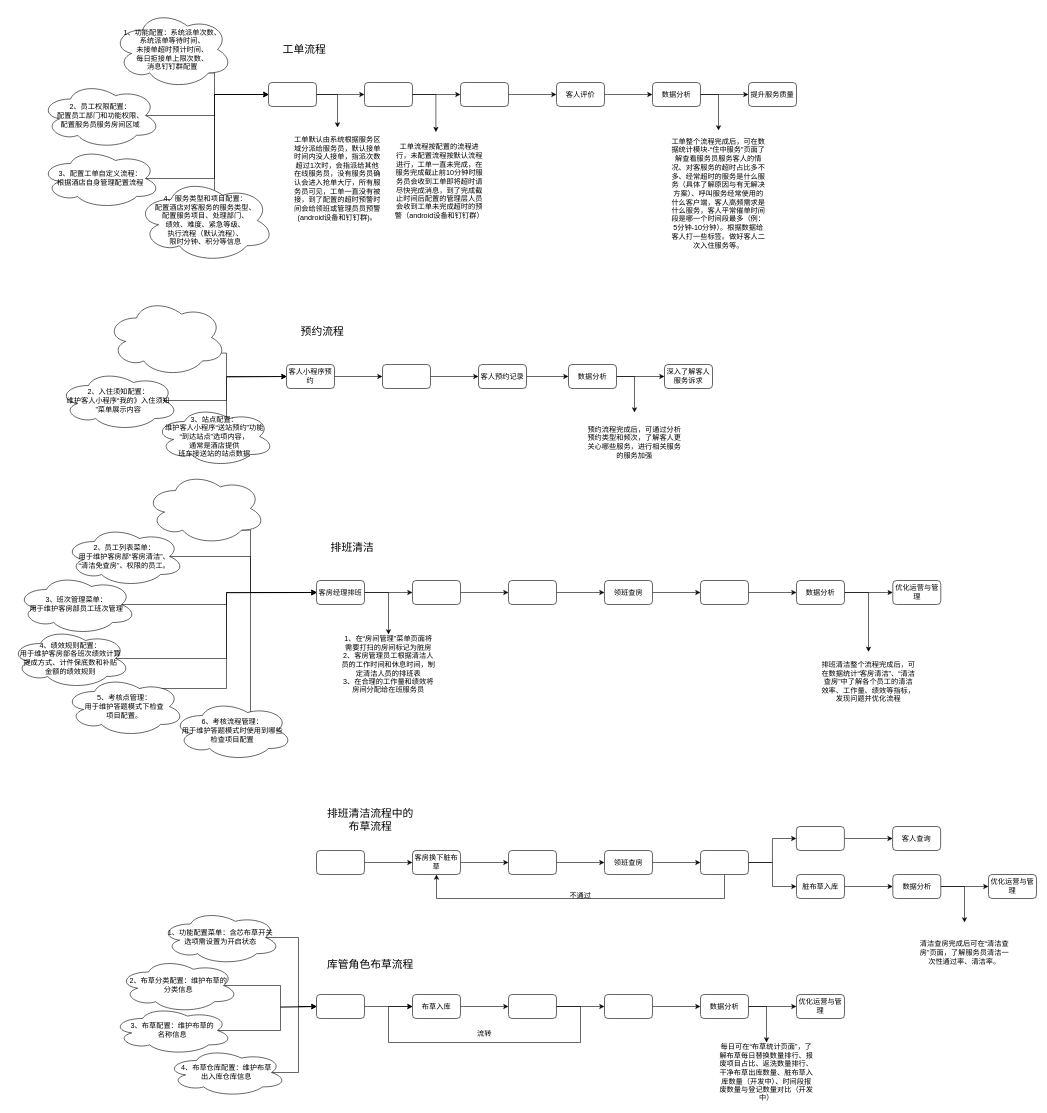
This 1047x1113 diagram has some shape labels left out. Here are the shapes that lost their labels. From the top down, the box of each, then its label:
(268, 82, 316, 106): 客人下单
(364, 82, 412, 106): 服务员接单
(460, 82, 508, 106): 客人服务记录
(106, 298, 226, 376): 1、小程序预约服务配置： 目前支持的预约服务有 预约开票、预约续住、 预约退房、叫醒服务、 预约送站、预约洗衣\ 呼叫前台等
(382, 364, 430, 388): 前厅人员审核并处理
(145, 472, 266, 544): 1、功能配置菜单：包含房态选项设置、清洁类型设置选项设置、 打扫房间流程选项设置、 查房模式选项设置等
(412, 580, 460, 604): 清洁分房
(508, 580, 556, 604): 服务员清洁
(700, 580, 748, 604): 清洁完成
(796, 826, 844, 850): 布草流转轨迹记录
(316, 850, 364, 874): 干净布草领取出库
(508, 850, 556, 874): 客房换上净布草
(700, 850, 748, 874): 查房通过
(316, 994, 364, 1018): 新布草登记
(508, 994, 556, 1018): 布草出库
(604, 994, 652, 1018): 布草清点
